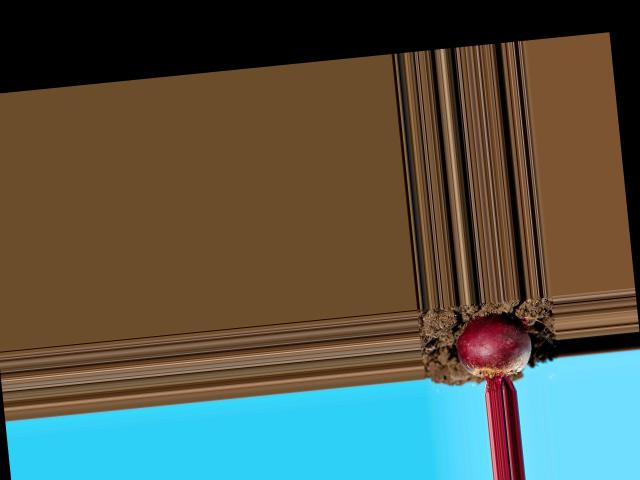beet: (454, 311, 536, 395)
